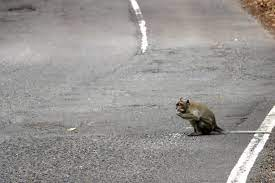squirrel: (173, 97, 230, 137)
